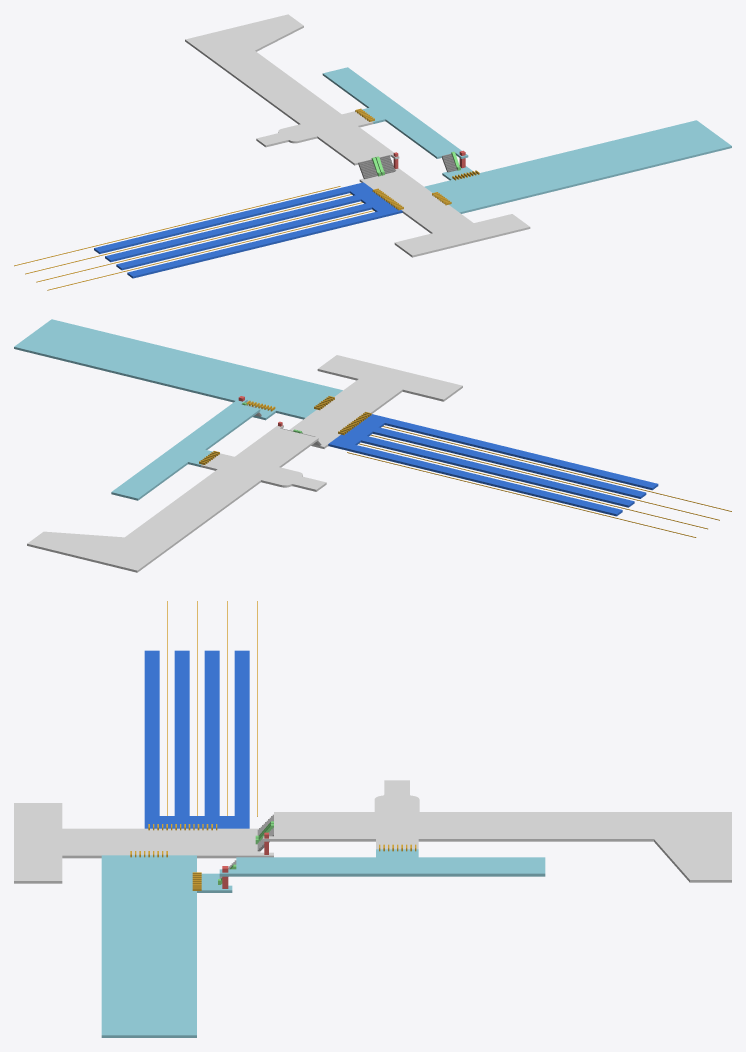
3 renders of one model, top to bottom at view 1: azimuth 30°, elevation 25°; view 2: azimuth 150°, elevation 25°; view 3: azimuth 270°, elevation 25°, orthographic. The views are drawn at different scales.
Visible parts, largest first — view 1: 新幹線改札内通路, 南北自由通路, 近鉄ホーム, 近鉄新幹線連絡通路, 改札内通路, 階段.001, 近鉄京都線, 近鉄京都線.001, 近鉄京都線.002, 近鉄京都線.003; view 2: 新幹線改札内通路, 南北自由通路, 近鉄ホーム, 近鉄新幹線連絡通路, 改札内通路, 近鉄京都線, 近鉄京都線.001, 近鉄京都線.002, 近鉄京都線.003; view 3: 新幹線改札内通路, 南北自由通路, 近鉄ホーム, 近鉄新幹線連絡通路, 改札内通路.
Part boxes in pixels (box(x1,y1,x2,y2)): 新幹線改札内通路: box(424, 120, 731, 213); 南北自由通路: box(185, 14, 399, 165); 近鉄ホーム: box(94, 182, 402, 278); 近鉄新幹線連絡通路: box(359, 168, 530, 257); 改札内通路: box(322, 67, 468, 158); 階段.001: box(358, 155, 395, 179); 近鉄京都線: box(14, 186, 340, 266); 近鉄京都線.001: box(25, 194, 351, 274); 近鉄京都線.002: box(36, 202, 362, 282); 近鉄京都線.003: box(47, 210, 373, 290); 新幹線改札内通路: box(14, 319, 342, 419); 南北自由通路: box(27, 425, 326, 572); 近鉄ホーム: box(328, 414, 658, 516); 近鉄新幹線連絡通路: box(289, 355, 462, 448); 改札内通路: box(111, 399, 260, 500); 近鉄京都線: box(347, 452, 696, 537); 近鉄京都線.001: box(359, 443, 707, 529); 近鉄京都線.002: box(370, 435, 719, 520); 近鉄京都線.003: box(382, 426, 731, 511); 新幹線改札内通路: box(101, 855, 196, 1037); 南北自由通路: box(263, 780, 731, 882); 近鉄ホーム: box(144, 650, 249, 828); 近鉄新幹線連絡通路: box(14, 803, 273, 883); 改札内通路: box(219, 857, 545, 876).
Size of the model in its own units: 34278 by 850 by 23900.
